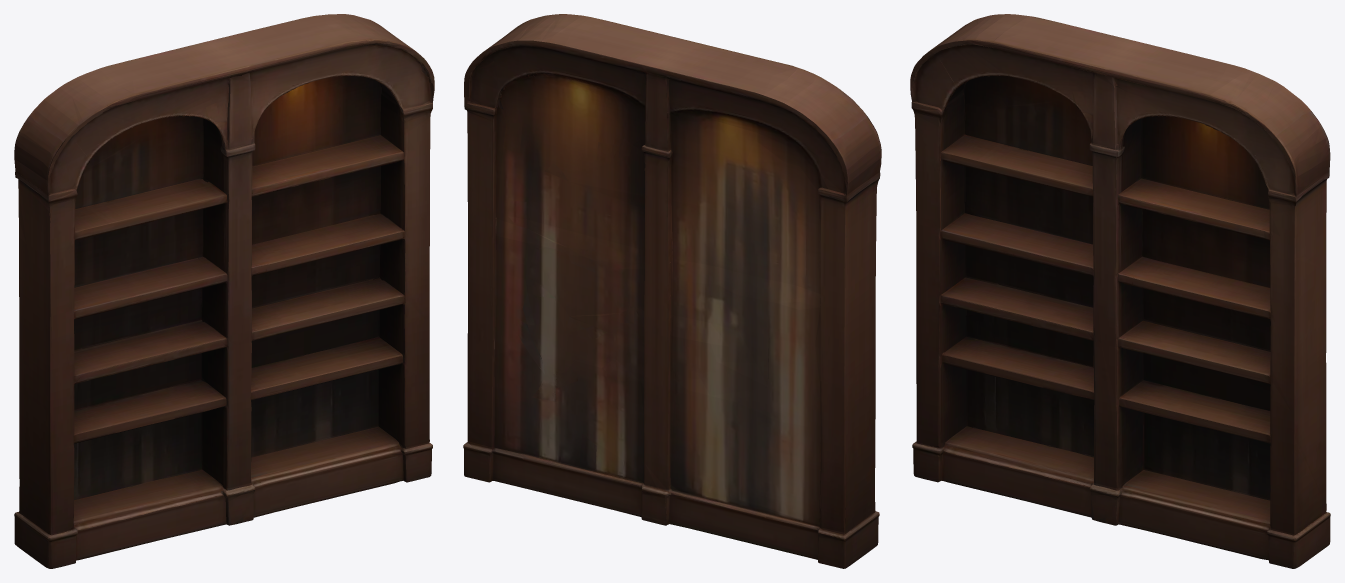
3 views of the same model, side by side, from view 1: azimuth 30°, elevation 25°; view 2: azimuth 150°, elevation 25°; view 3: azimuth 330°, elevation 25° (orthographic).
Visible parts, largest first — view 1: geometry_0; view 2: geometry_0; view 3: geometry_0.
Boxes of the visible parts, x1,y1,x2,y2 form: geometry_0: (14,14,434,568); geometry_0: (463,14,881,568); geometry_0: (910,14,1330,568).
Size of the model in its own units: 0.8851 by 1 by 0.1537.
Materials: 1 (1 with a texture image).
